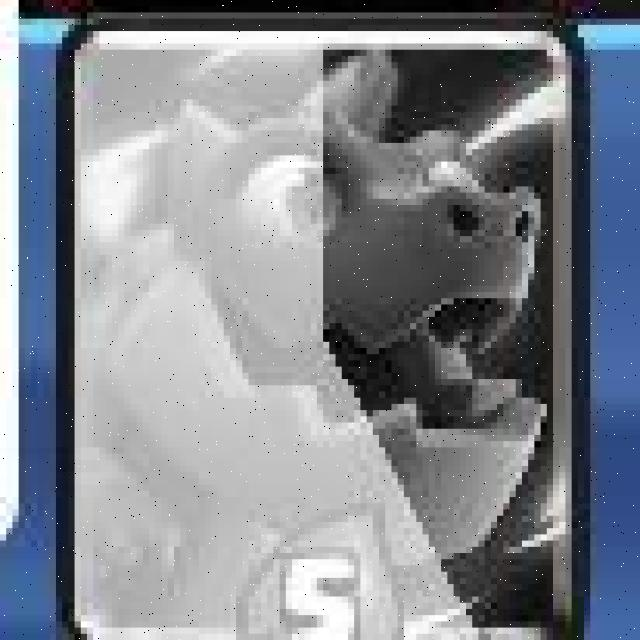Electro_Dragon: (54, 13, 588, 640)
